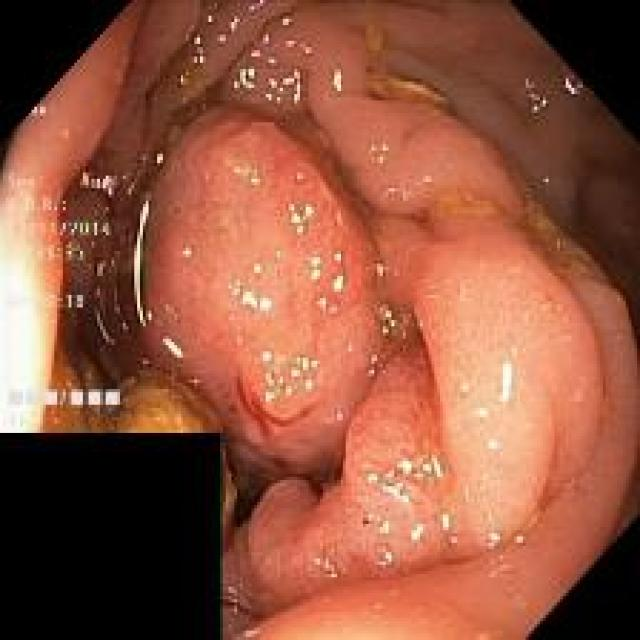Polyps: (140, 113, 385, 489)
